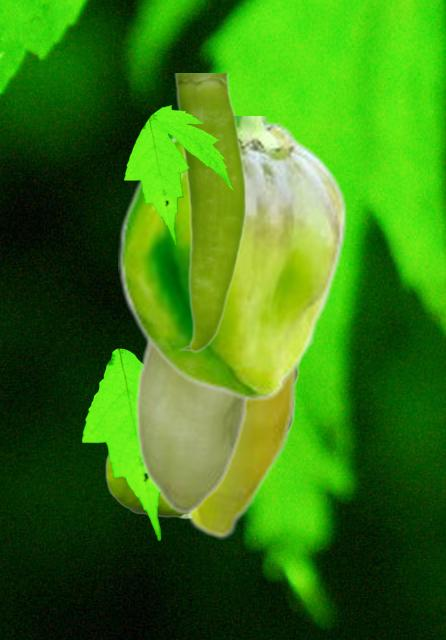green_chili: (118, 116, 347, 401), (105, 371, 299, 518), (131, 340, 250, 513), (173, 73, 245, 352), (186, 365, 301, 538)
